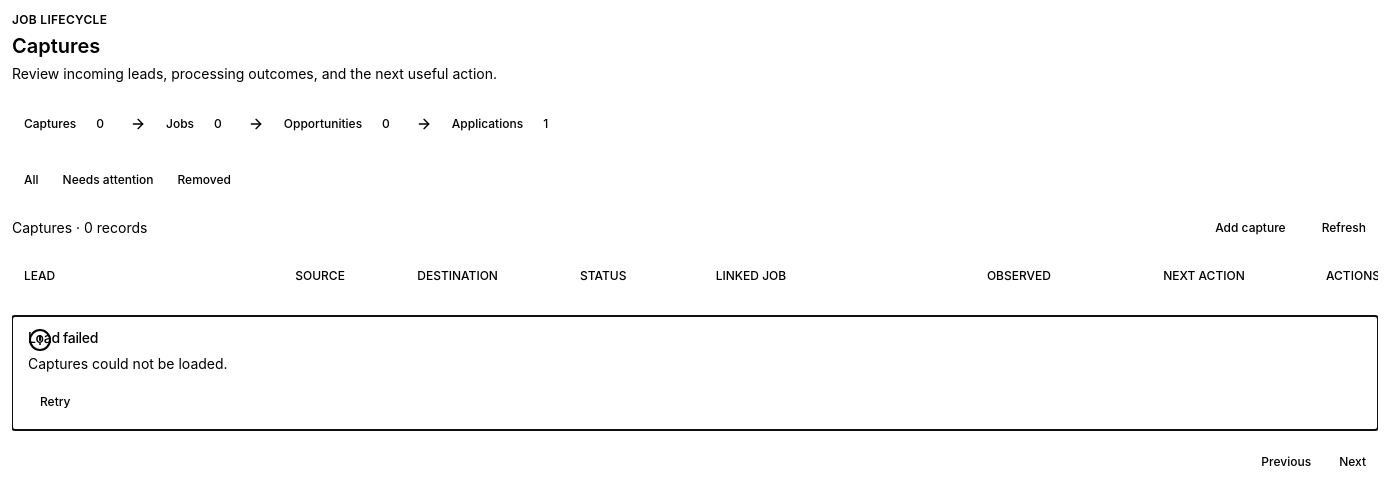
Test: A308-2: All mode preserves the lifecycle table › All mode renders the Applications lifecycle table with existing columns
Step 1. Click the button "Applications 1" → (503,124), box [440,108,566,140]
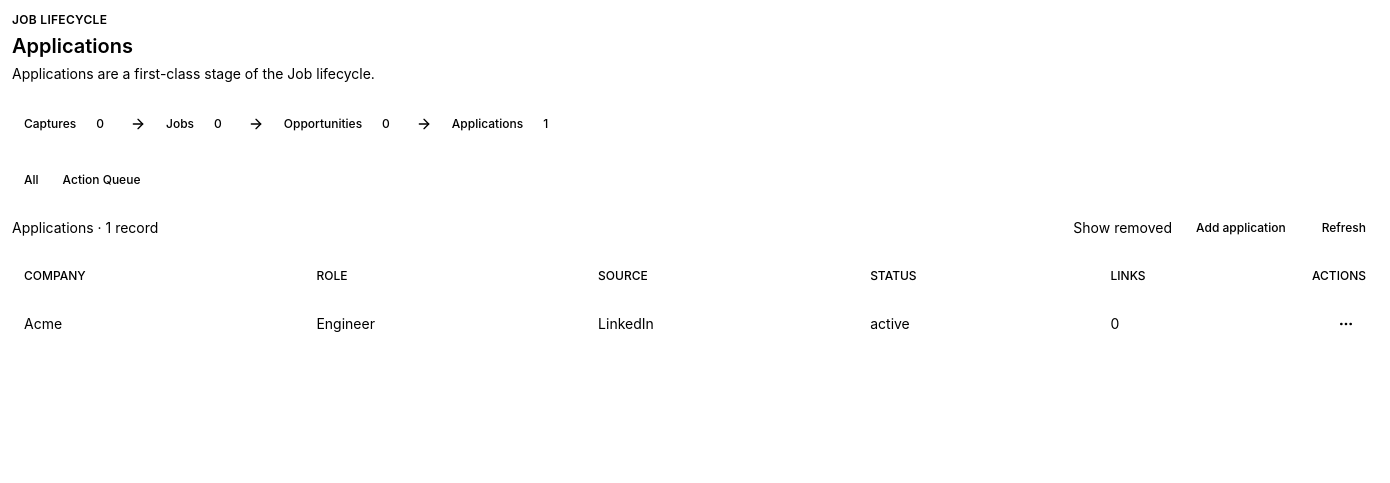
Check: the table named "Applications" is shown, box [12,256,1378,352]
Check: the text "Acme" is shown, box [12,296,304,352]
